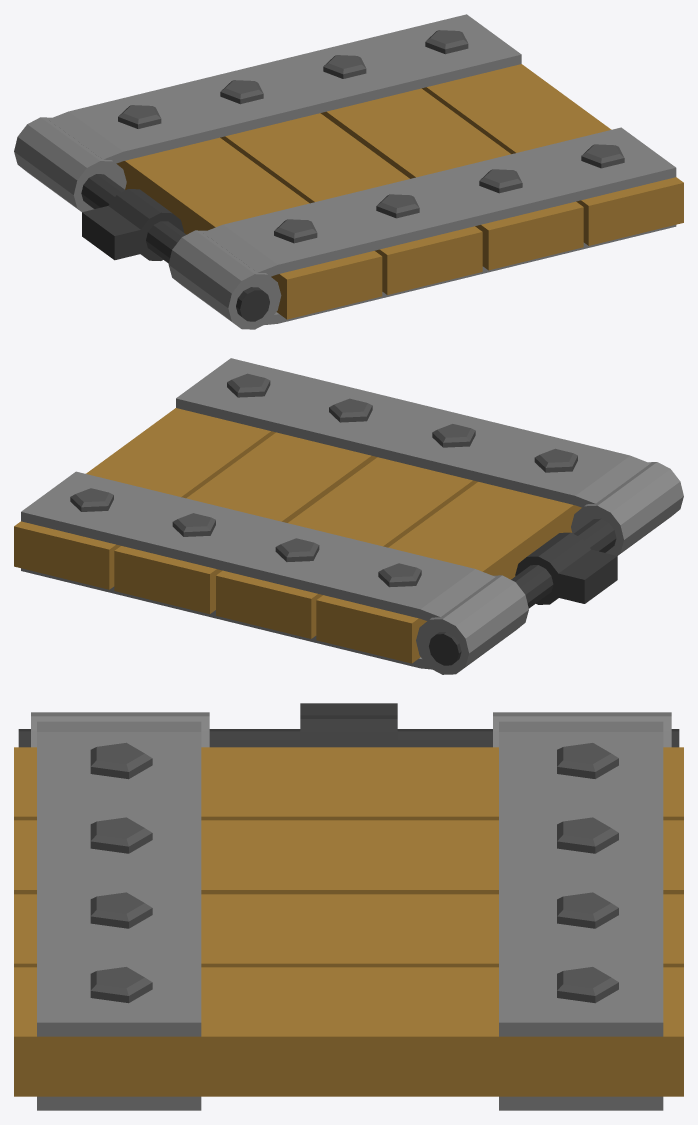
Rendered from Platform.fbx.
3 views of the same model, one above another, from view 1: azimuth 30°, elevation 25°; view 2: azimuth 150°, elevation 25°; view 3: azimuth 270°, elevation 25° (orthographic). The views are drawn at different scales.
Parts seen in each view (by area): view 1: Cube.005, Cylinder.011, Cylinder.010; view 2: Cube.005, Cylinder.011, Cylinder.010; view 3: Cube.005, Cylinder.011, Cylinder.010.
Part boxes in pixels (<box>): Cube.005: <box>14,14,683,329</box>; Cylinder.011: <box>82,189,183,260</box>; Cylinder.010: <box>81,174,269,321</box>; Cube.005: <box>14,358,683,674</box>; Cylinder.011: <box>515,532,617,604</box>; Cylinder.010: <box>429,518,616,665</box>; Cube.005: <box>14,712,683,1110</box>; Cylinder.011: <box>300,703,397,747</box>; Cylinder.010: <box>18,729,679,747</box>.
Size of the model in its own units: 423 by 57.1 by 346.
